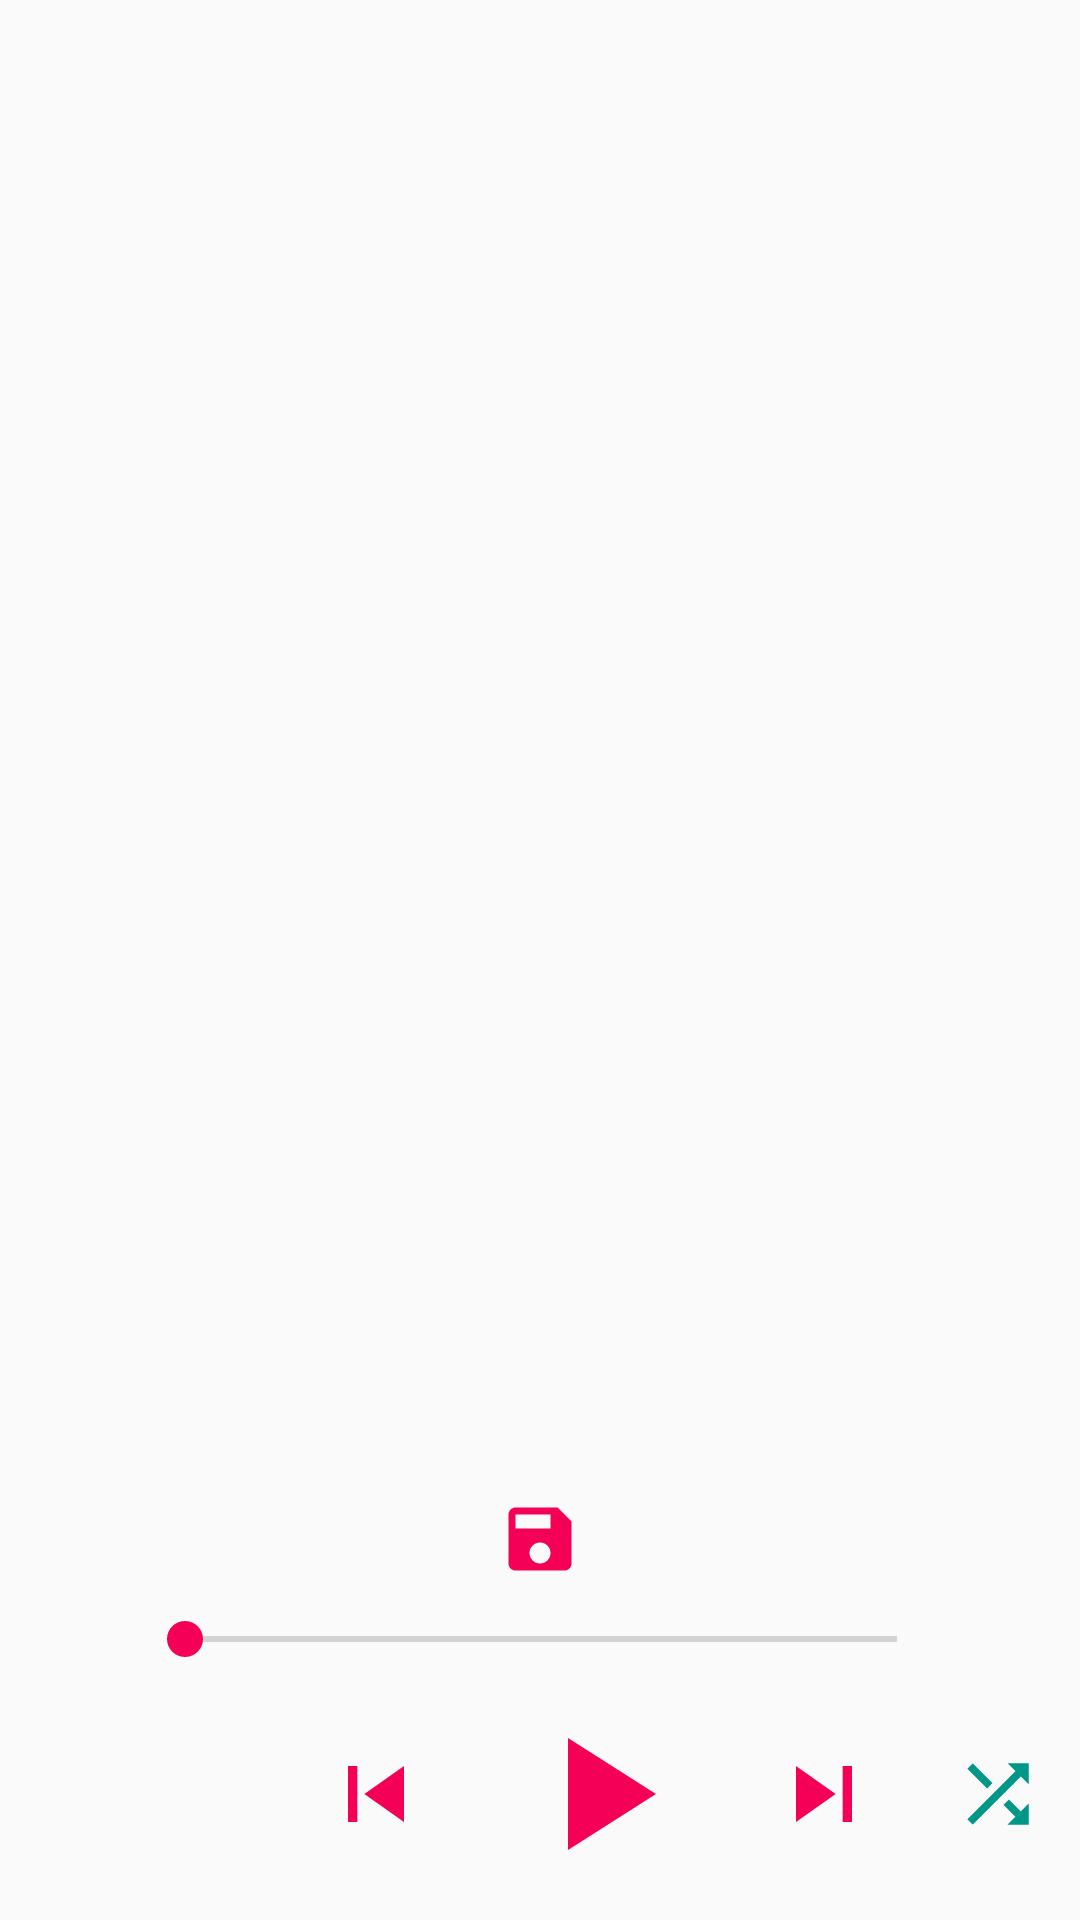

Screen size 1080px x 1920px. Icon name, then its center in pixels as (x=x, y=y):
ma next: (x=824, y=1794)
ma play: (x=612, y=1794)
ma prev: (x=376, y=1794)
ma save: (x=540, y=1539)
ma shuffle: (x=998, y=1794)
